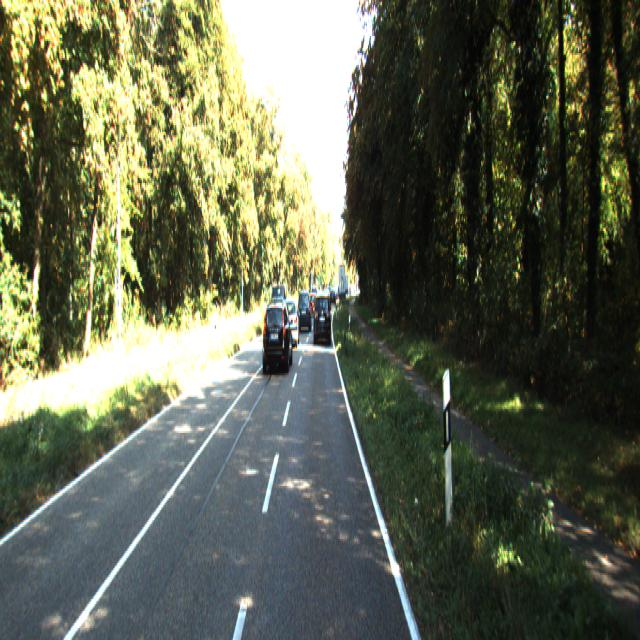Car: (262, 297, 293, 374), (313, 289, 331, 342), (281, 295, 300, 345), (297, 288, 311, 329)
